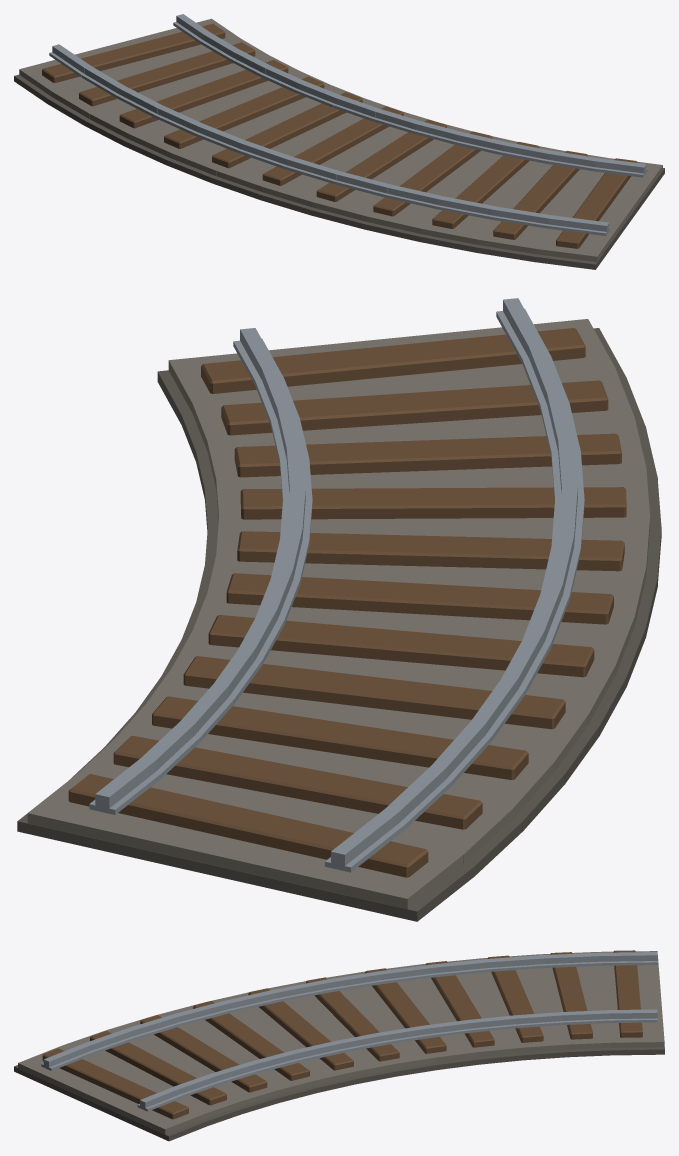
File: rail_courbe.glb
3 renders of one model, top to bottom at view 1: azimuth 30°, elevation 25°; view 2: azimuth 150°, elevation 25°; view 3: azimuth 270°, elevation 25°, orthographic. The views are drawn at different scales.
Visible parts, largest first — view 1: rail_ballast.004, rail_traverse.004, rail_rail.004, rail_ballast_sombre.004; view 2: rail_traverse.004, rail_ballast.004, rail_rail.004, rail_ballast_sombre.004; view 3: rail_ballast.004, rail_traverse.004, rail_rail.004, rail_ballast_sombre.004.
Boxes of the visible parts, x1,y1,x2,y2 form: rail_ballast.004: [19, 18, 662, 261]; rail_traverse.004: [42, 23, 637, 248]; rail_rail.004: [49, 14, 647, 235]; rail_ballast_sombre.004: [14, 74, 664, 269]; rail_traverse.004: [68, 328, 626, 877]; rail_ballast.004: [27, 319, 650, 908]; rail_rail.004: [89, 298, 584, 872]; rail_ballast_sombre.004: [17, 328, 661, 921]; rail_ballast.004: [18, 951, 664, 1134]; rail_traverse.004: [42, 950, 642, 1119]; rail_rail.004: [41, 952, 657, 1111]; rail_ballast_sombre.004: [14, 1047, 664, 1141].
Size of the model in its own units: 1.91 by 0.12 by 2.87.
